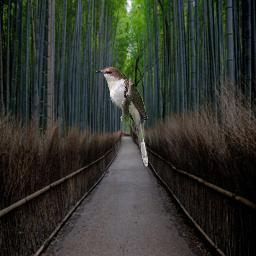Cuckoo: (94, 66, 149, 167)
